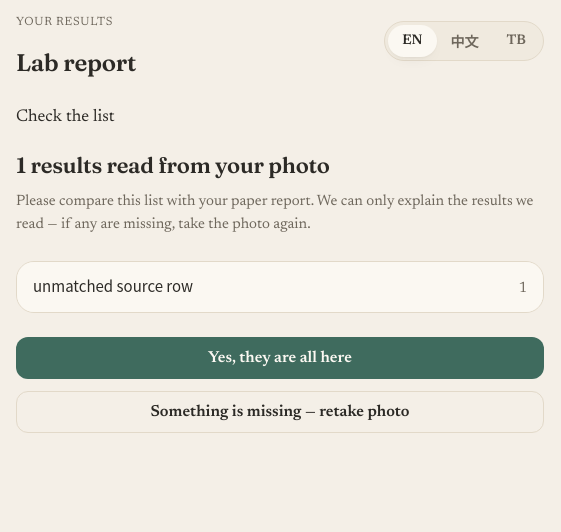
it: ResultPage completeness gate › advances to the rest of the flow only after the user confirms the list is complete
Click the button "Yes, they are all here".
click(280, 358)  # box [16, 337, 544, 379]
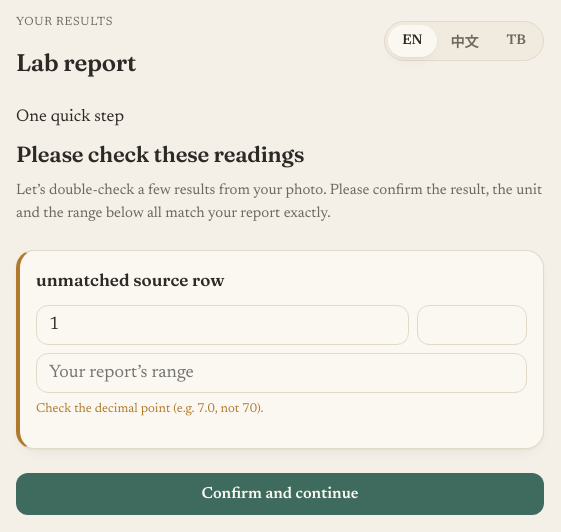
Result: the list with test id "manifest-list" is gone
Result: the text "Please check these readings" is shown at [16, 140, 304, 168]
